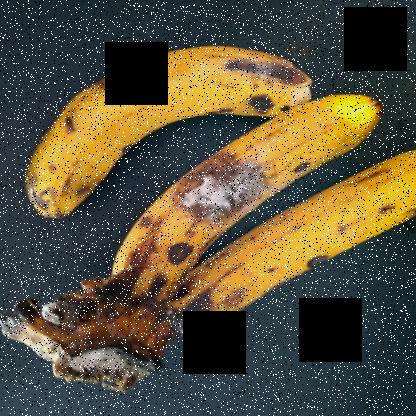ripe: (1, 17, 300, 220), (183, 154, 416, 335)
rotten: (113, 99, 395, 288)
